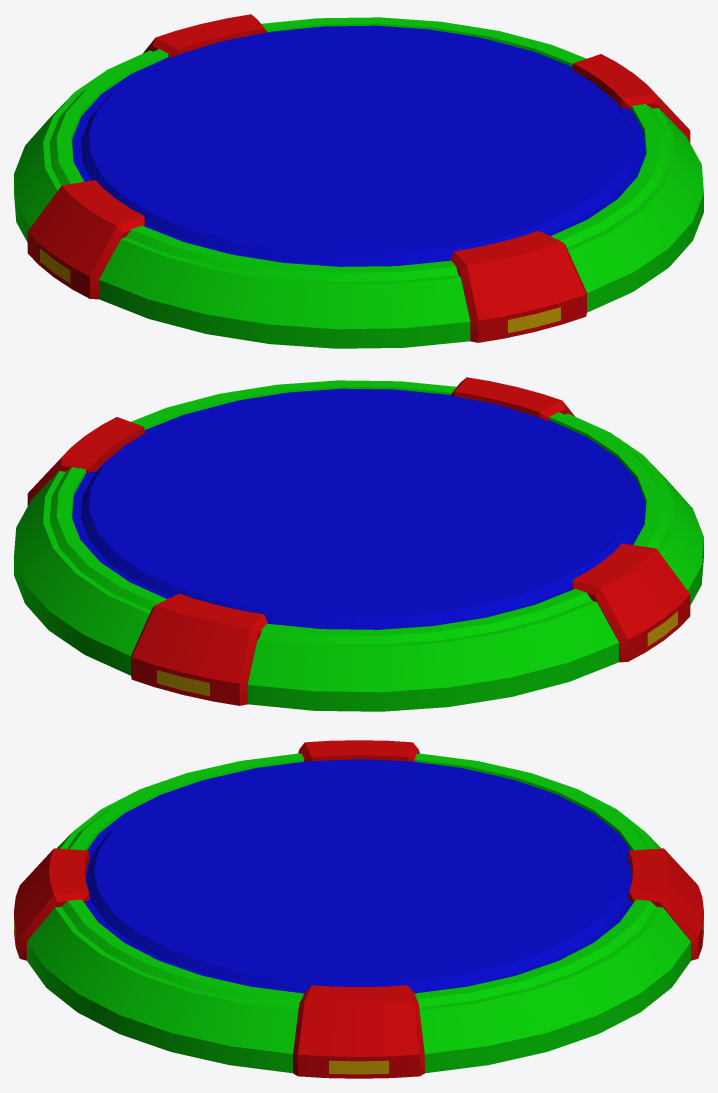
File: 플머기획반원반.fbx
3 views of the same model, one above another, from view 1: azimuth 30°, elevation 25°; view 2: azimuth 150°, elevation 25°; view 3: azimuth 270°, elevation 25° (orthographic). The views are drawn at different scales.
Visible parts, largest first — view 1: Cube.378; view 2: Cube.378; view 3: Cube.378.
Boxes of the visible parts, <box> form: Cube.378: <box>14,14,703,348</box>; Cube.378: <box>14,377,703,711</box>; Cube.378: <box>14,740,703,1078</box>.
Size of the model in its own units: 201 by 201 by 19.89.
